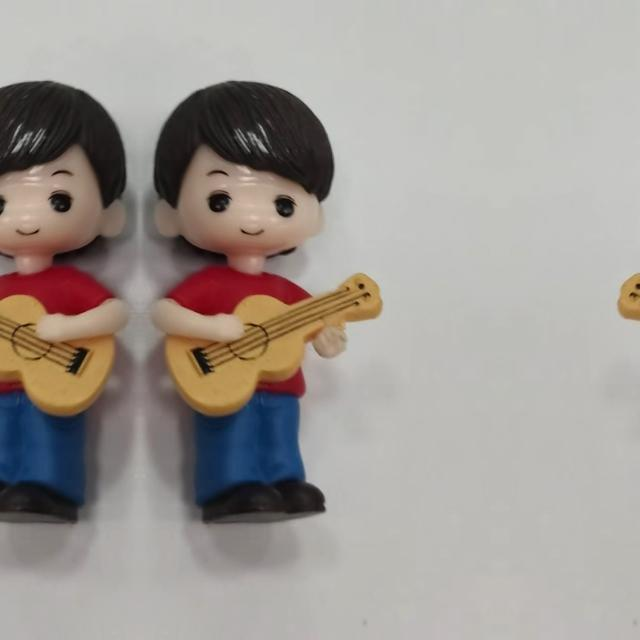man cloth: (162, 266, 334, 402), (0, 266, 117, 402)
man head: (150, 78, 336, 260), (0, 78, 130, 260)
trousers: (184, 386, 336, 530), (0, 385, 95, 530)
